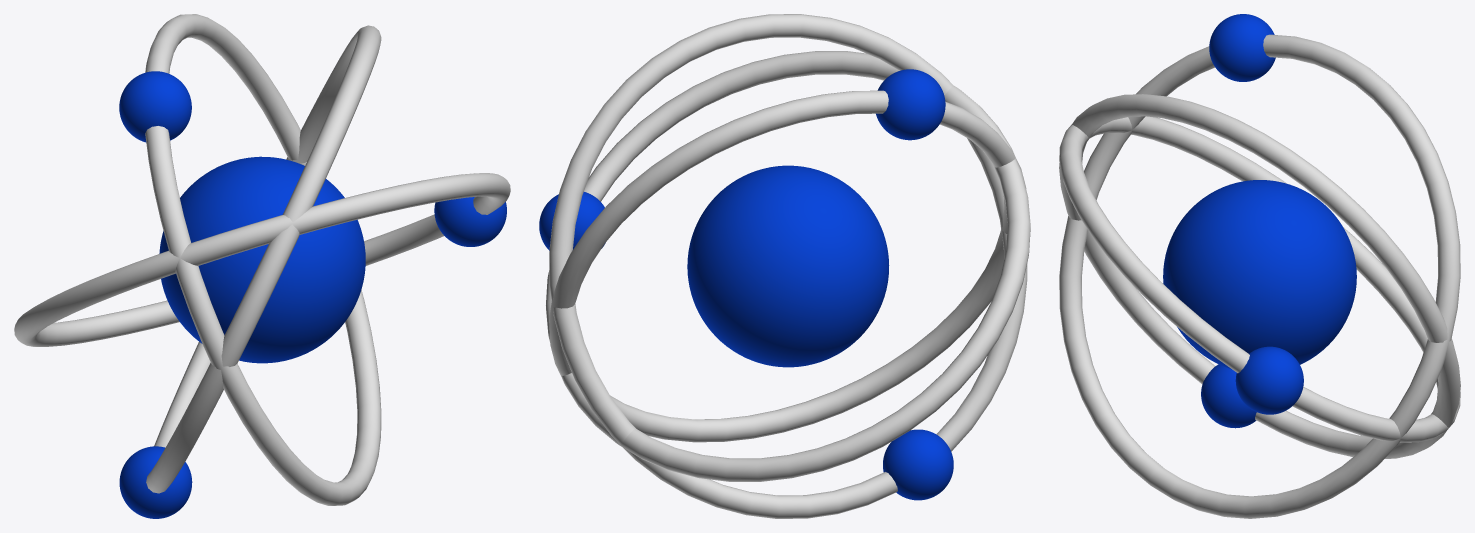
Rendered from atom.glb.
The picture shows the model from 3 angles, left to right: view 1: azimuth 30°, elevation 25°; view 2: azimuth 150°, elevation 25°; view 3: azimuth 270°, elevation 25°; orthographic projection. The views are drawn at different scales.
Parts seen in each view (by area): view 1: Icosphere_9, BezierCircle.005_8, BezierCircle.003_6, BezierCircle.004_7, Icosphere.001_4, Icosphere.003_2, Icosphere.002_0; view 2: Icosphere_9, BezierCircle.004_7, BezierCircle.003_6, BezierCircle.005_8, Icosphere.003_2, Icosphere.001_4, Icosphere.002_0; view 3: BezierCircle.005_8, Icosphere_9, BezierCircle.004_7, BezierCircle.003_6, Icosphere.002_0, Icosphere.001_4, Icosphere.003_2.
Boxes of the visible parts, x1=… form: Icosphere_9: x1=159, y1=156, x2=365, y2=363; BezierCircle.005_8: x1=145, y1=14, x2=381, y2=505; BezierCircle.003_6: x1=14, y1=173, x2=510, y2=346; BezierCircle.004_7: x1=146, y1=25, x2=381, y2=493; Icosphere.001_4: x1=119, y1=71, x2=191, y2=142; Icosphere.003_2: x1=119, y1=446, x2=192, y2=518; Icosphere.002_0: x1=434, y1=197, x2=506, y2=246; Icosphere_9: x1=687, y1=165, x2=889, y2=367; BezierCircle.004_7: x1=549, y1=14, x2=1027, y2=518; BezierCircle.003_6: x1=546, y1=51, x2=1030, y2=481; BezierCircle.005_8: x1=549, y1=90, x2=1026, y2=442; Icosphere.003_2: x1=883, y1=429, x2=953, y2=500; Icosphere.001_4: x1=876, y1=69, x2=945, y2=140; Icosphere.002_0: x1=539, y1=192, x2=605, y2=250; BezierCircle.005_8: x1=1059, y1=34, x2=1460, y2=518; Icosphere_9: x1=1163, y1=180, x2=1356, y2=369; BezierCircle.004_7: x1=1059, y1=94, x2=1460, y2=458; BezierCircle.003_6: x1=1059, y1=116, x2=1460, y2=442; Icosphere.002_0: x1=1235, y1=346, x2=1303, y2=414; Icosphere.001_4: x1=1209, y1=14, x2=1275, y2=81; Icosphere.003_2: x1=1201, y1=364, x2=1256, y2=428.
Size of the model in its own units: 3.14 by 2.8 by 2.49.
